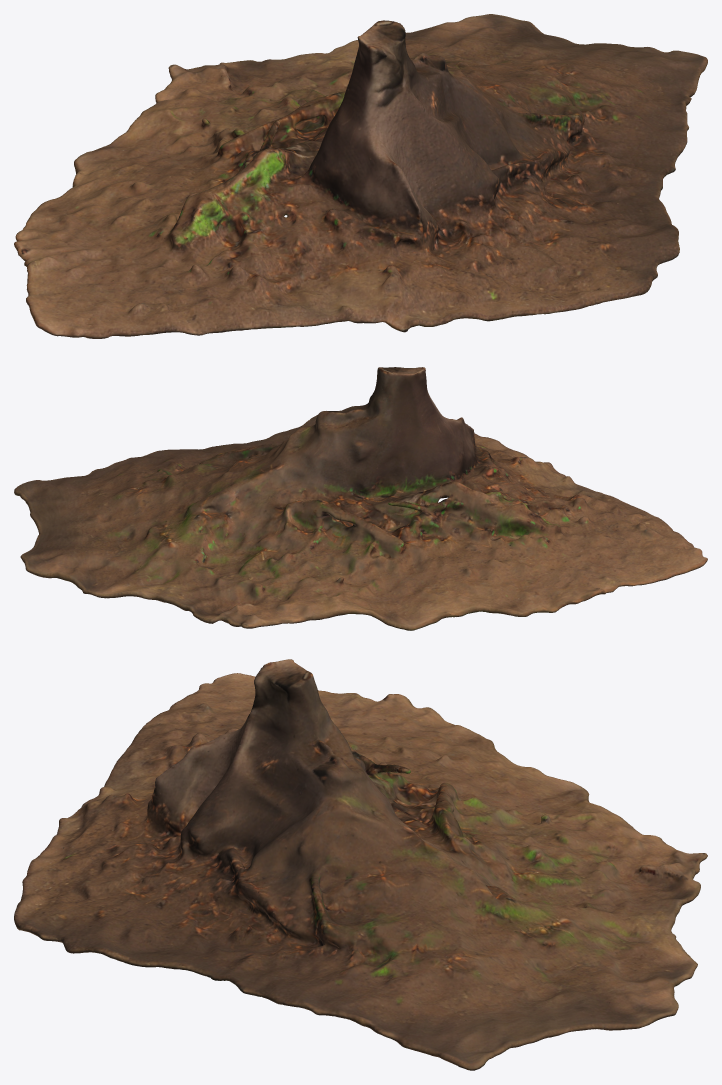
File: animated_ant_hill.glb
3 views of the same model, one above another, from view 1: azimuth 30°, elevation 25°; view 2: azimuth 150°, elevation 25°; view 3: azimuth 270°, elevation 25° (orthographic). The views are drawn at different scales.
Size of the model in its own units: 2 by 0.4948 by 1.52.
1 material, 1 textured.
